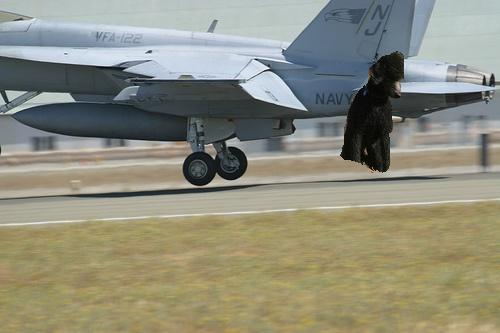tampered: (341, 52, 404, 173)
